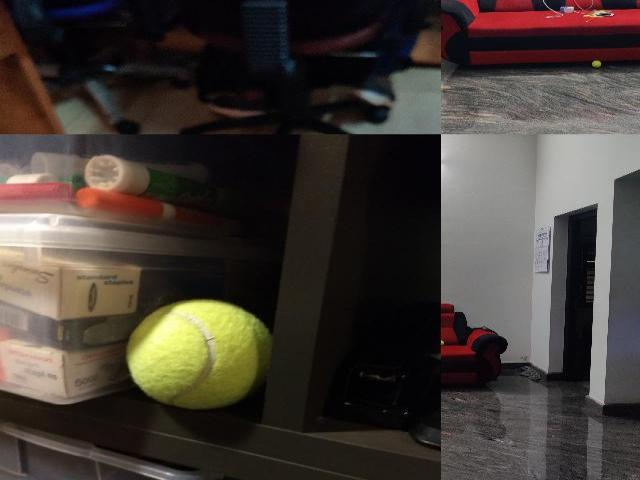tennis-ball: (124, 298, 266, 410), (591, 60, 601, 68), (441, 340, 444, 346)
